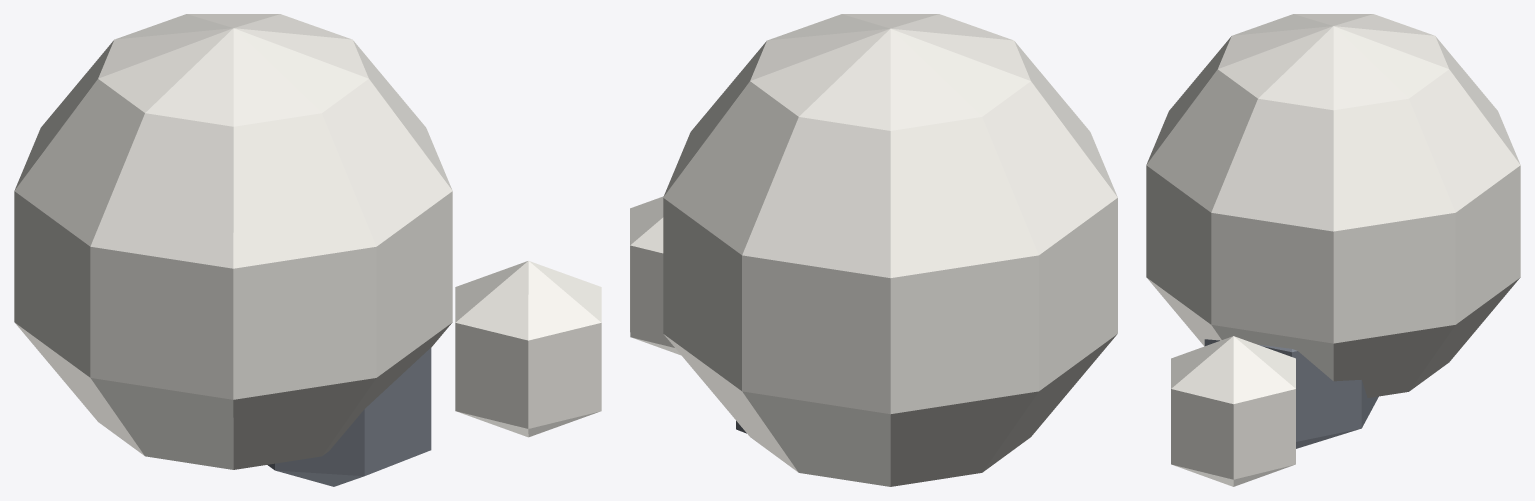
File: deco_snowball.obj
3 renders of one model, left to right at view 1: azimuth 30°, elevation 25°; view 2: azimuth 150°, elevation 25°; view 3: azimuth 270°, elevation 25°, orthographic. The views are drawn at different scales.
Visible parts, largest first — view 1: deco_snowball; view 2: deco_snowball; view 3: deco_snowball.
Boxes of the visible parts, x1=… form: deco_snowball: x1=14, y1=14, x2=601, y2=486; deco_snowball: x1=630, y1=14, x2=1117, y2=486; deco_snowball: x1=1146, y1=14, x2=1520, y2=486.
Size of the model in its own units: 0.0291 by 0.026 by 0.0225.
1 material, 1 textured.
